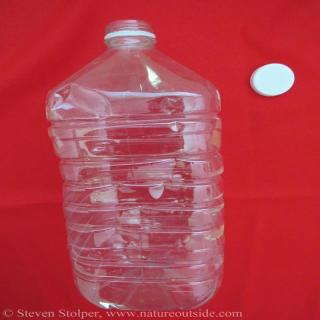Plastic-bottle: (41, 16, 232, 316)
